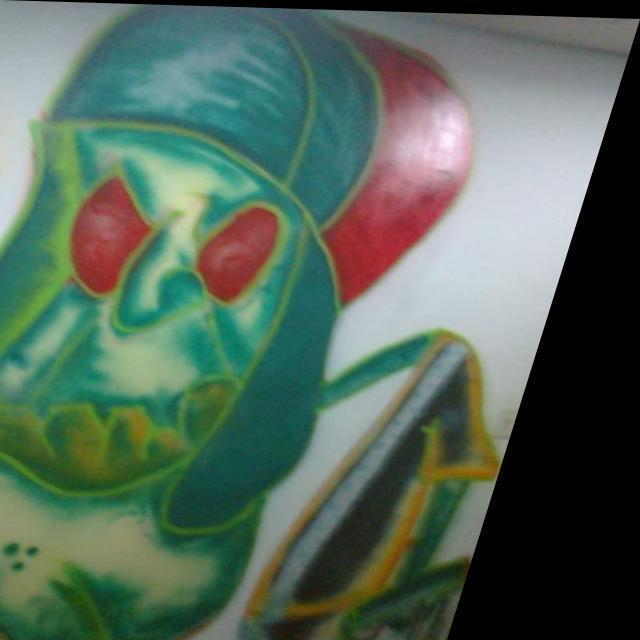nonspitting: (3, 1, 501, 640)
